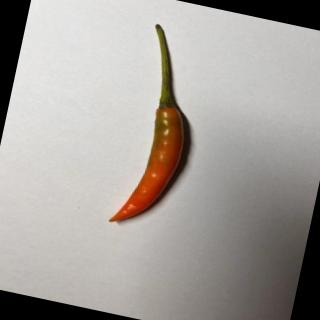Cabai Merah: (109, 22, 208, 234)
